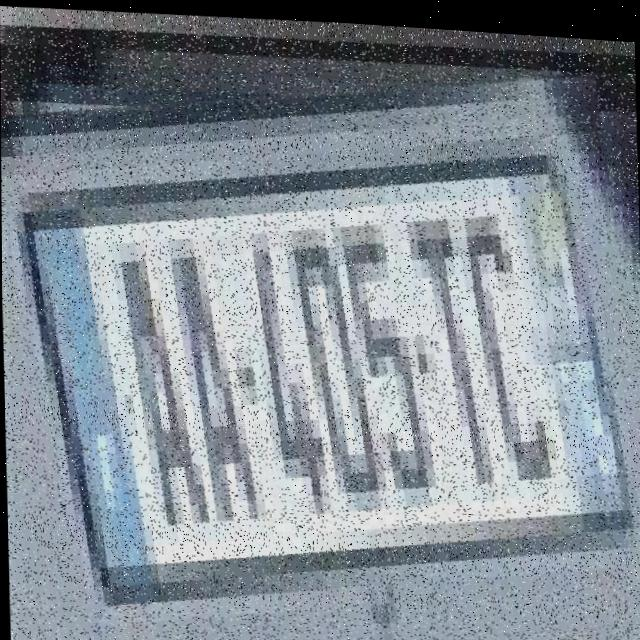LicensePlate: (2, 48, 640, 640)
